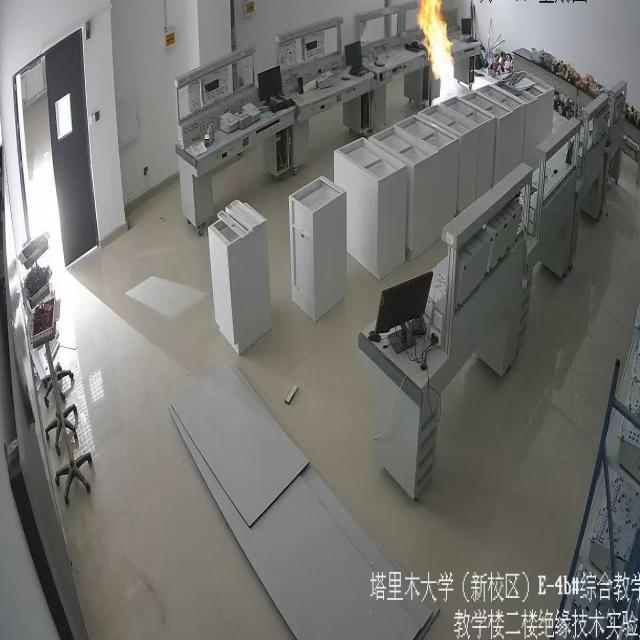smoke: (409, 0, 458, 93)
